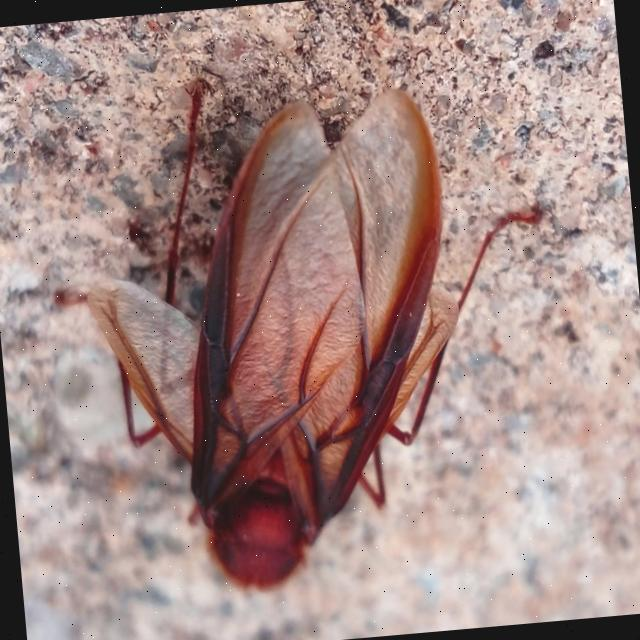Alive-Male-Alate: (35, 49, 571, 610)
